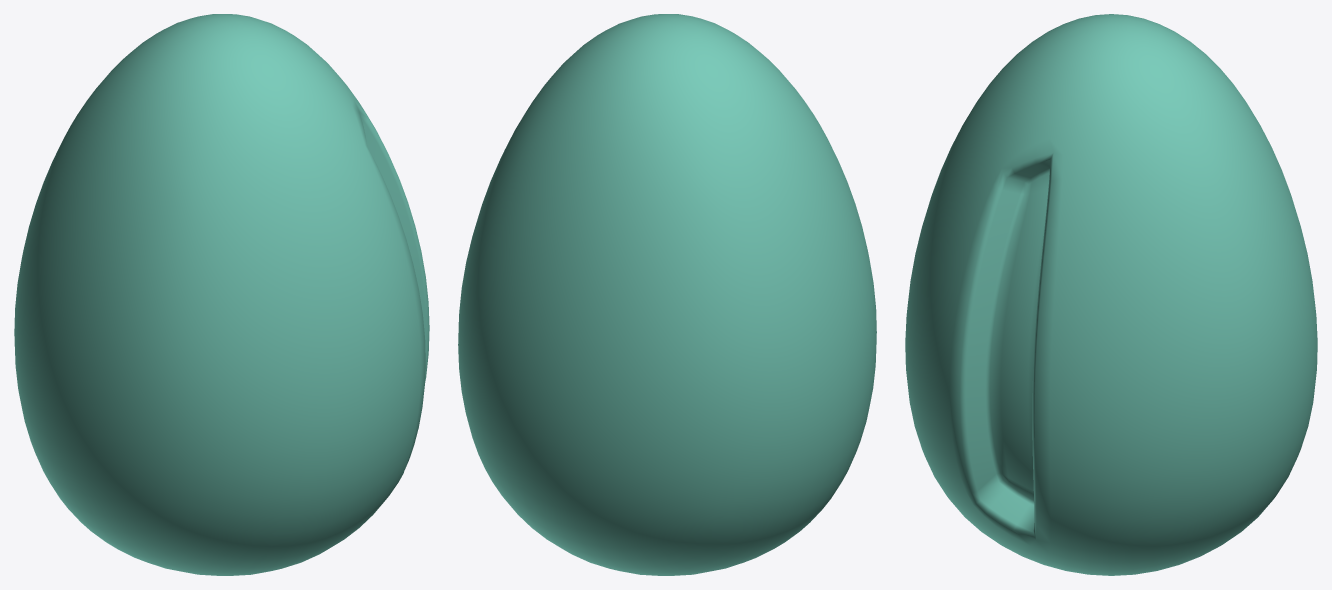
File: Deep Egg 1.fbx
3 renders of one model, left to right at view 1: azimuth 30°, elevation 25°; view 2: azimuth 150°, elevation 25°; view 3: azimuth 270°, elevation 25°, orthographic.
Parts seen in each view (by area): view 1: Slime Egg.002; view 2: Slime Egg.002; view 3: Slime Egg.002.
Part boxes in pixels (x1,y1,x2,y2): Slime Egg.002: (14, 14, 429, 575); Slime Egg.002: (458, 14, 876, 575); Slime Egg.002: (905, 14, 1317, 575).
Size of the model in its own units: 2.56 by 3.62 by 2.56.
